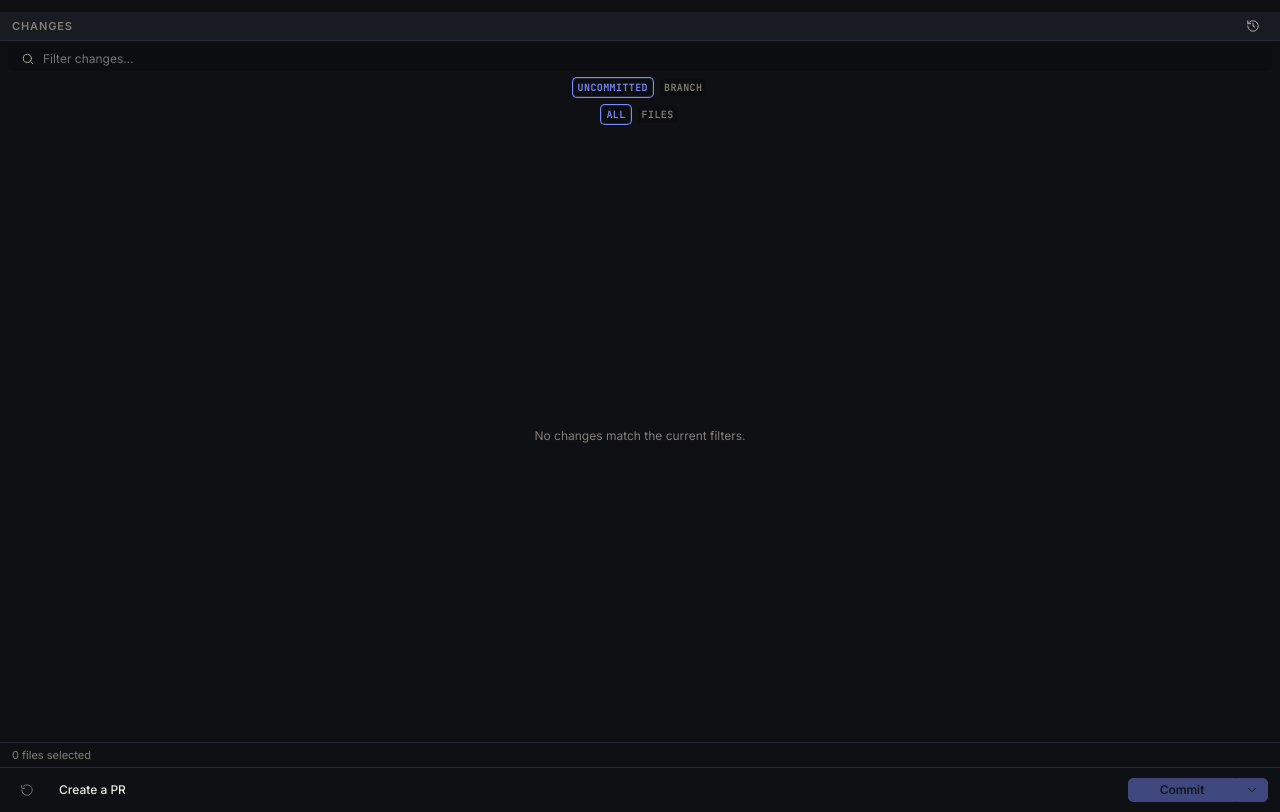
Test case: the footer action control › CHG-FR-36 enables Commit only in Uncommitted mode with something ticked
Click the radio button labelled "Files".
click(658, 114)  # box left=636, top=104, right=680, bottom=125
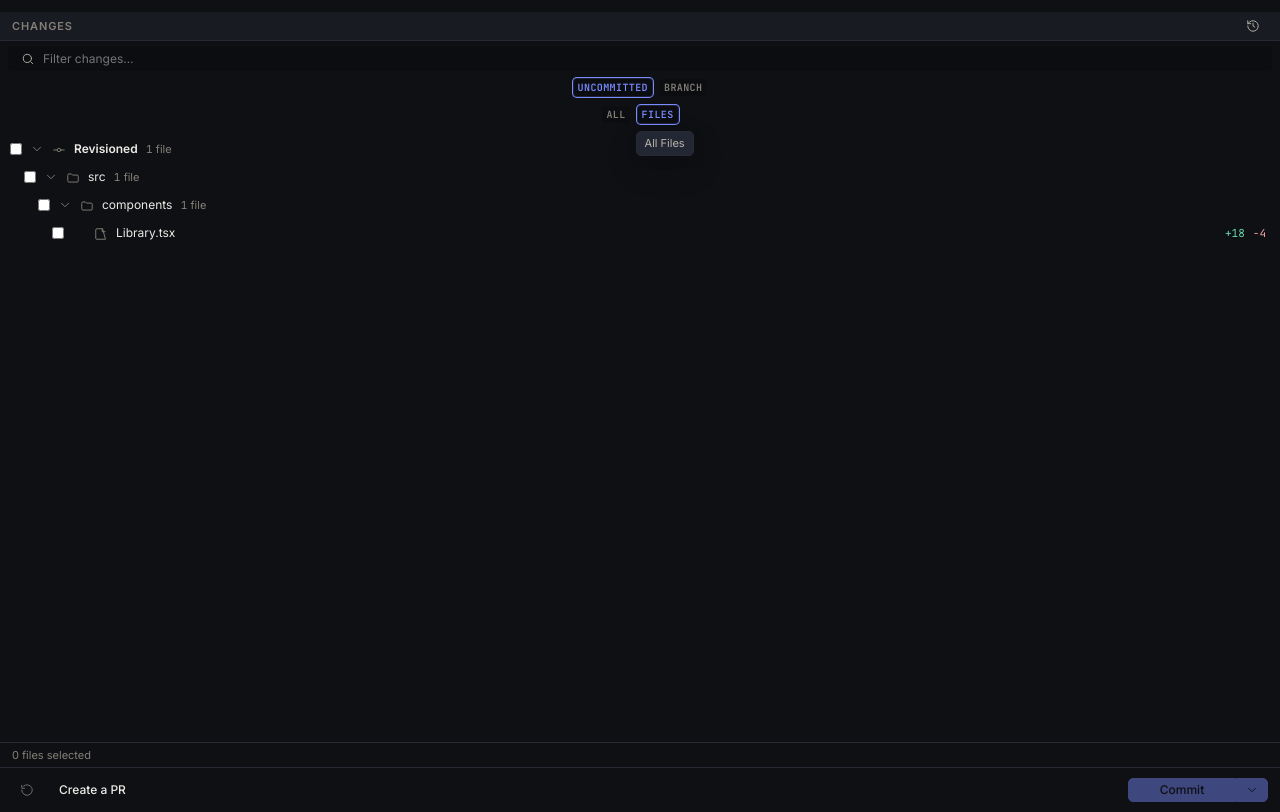
Expected: the button "Commit" is disabled, left=1128, top=778, right=1236, bottom=802
Result: the text "Library.tsx" is shown at left=116, top=225, right=175, bottom=240
Click the checkbox named "Include src/components/Library.tsx".
click(58, 233)  # box left=52, top=227, right=64, bottom=239
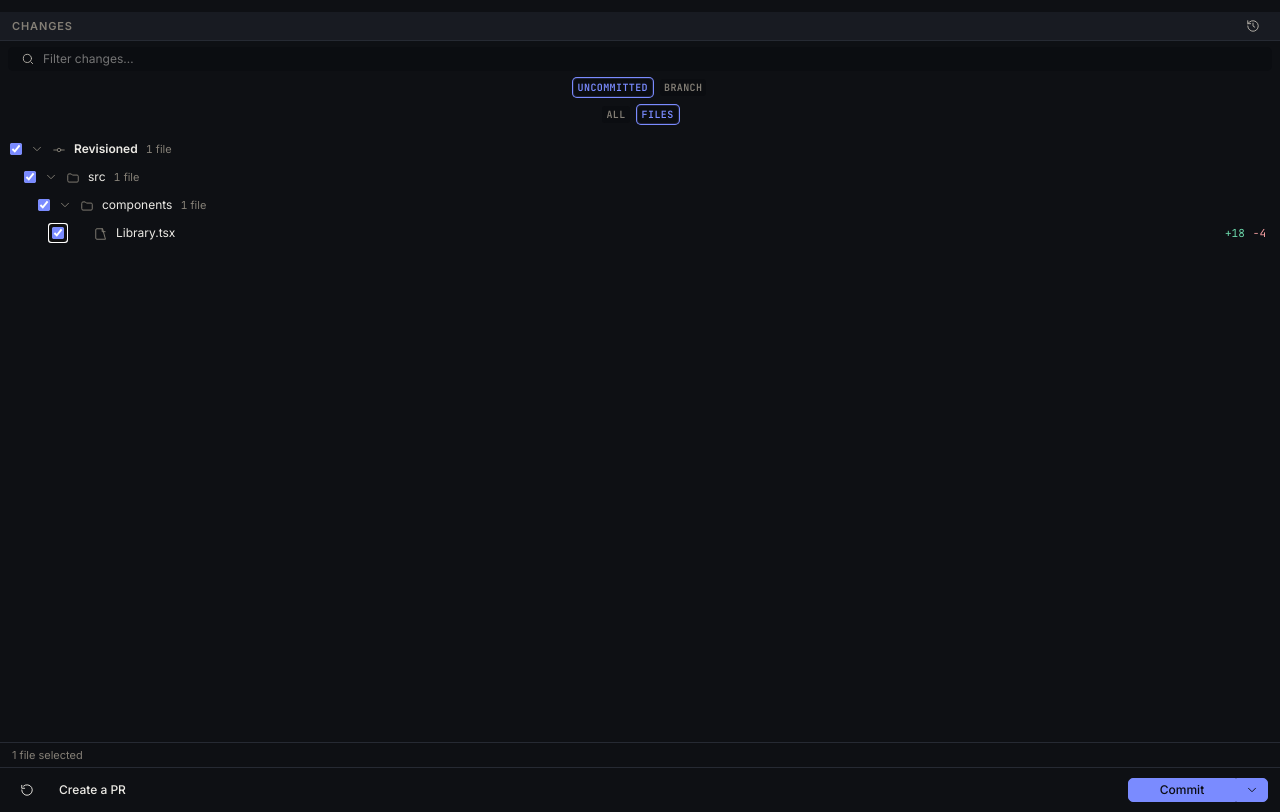
Result: the button "Commit" is enabled at left=1128, top=778, right=1236, bottom=802
Click the radio button labelled "Branch".
click(683, 88)  # box left=658, top=77, right=708, bottom=98
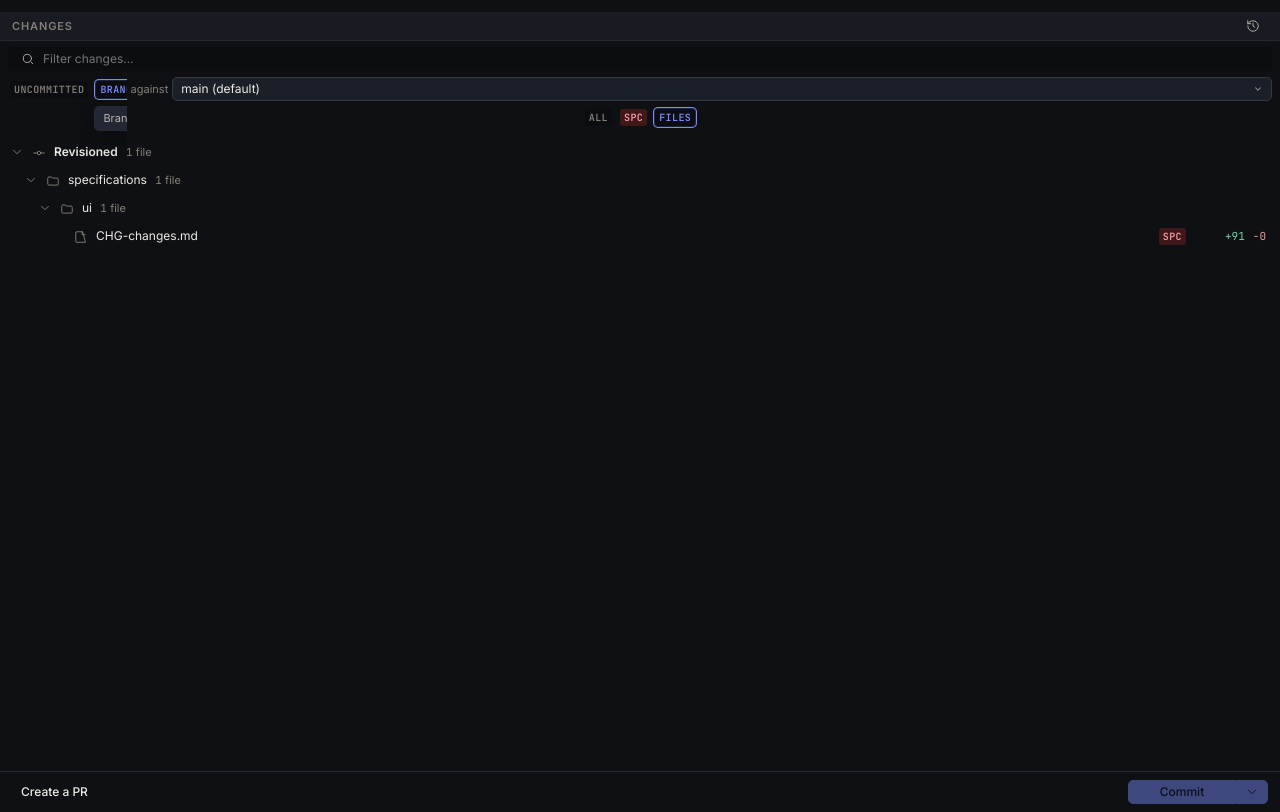
Result: the text "CHG-changes.md" is shown at left=96, top=228, right=198, bottom=243
Result: the button "Commit" is disabled at left=1128, top=780, right=1236, bottom=804
